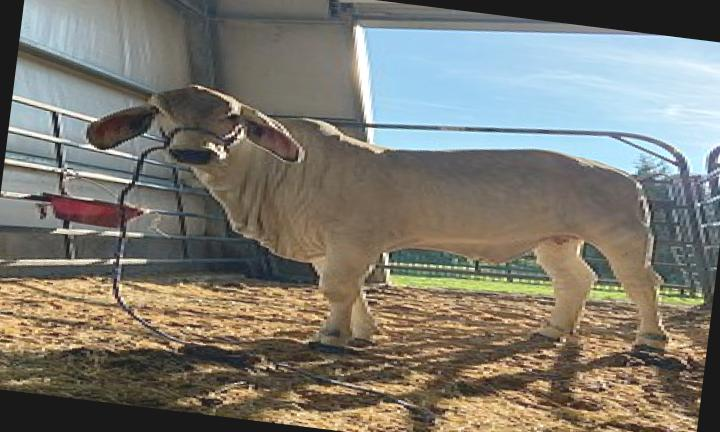Brahman: (89, 85, 669, 349)
